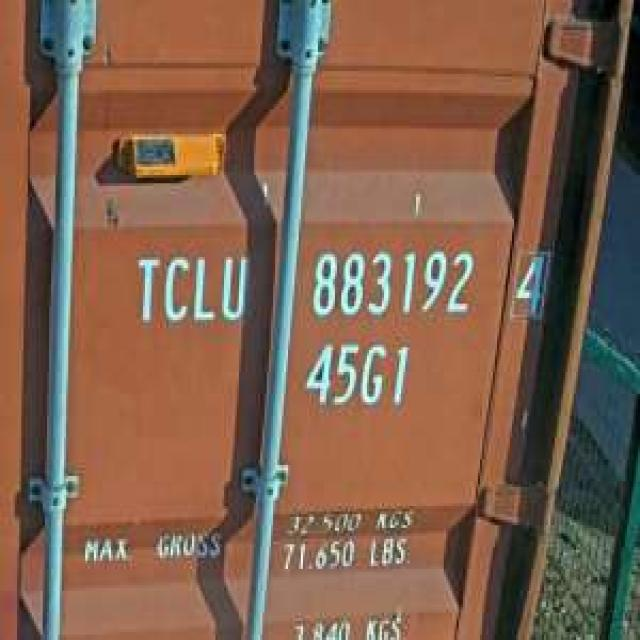dv: (508, 243, 553, 325)
owner: (128, 243, 252, 331)
serial: (305, 240, 478, 326)
size: (299, 334, 414, 416)
